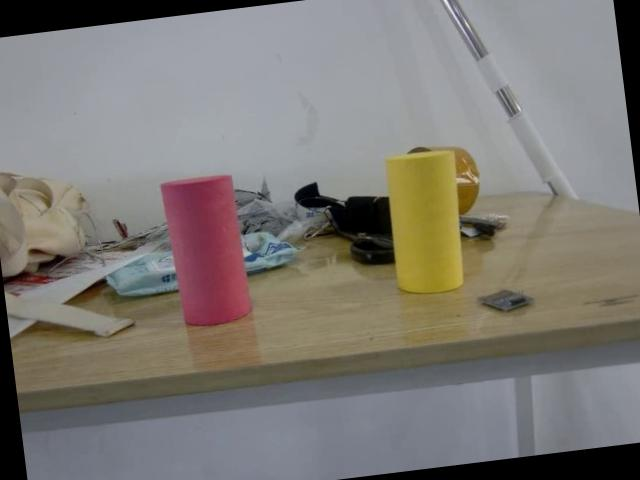red_cylinder: (160, 171, 253, 330)
yellow_cylinder: (381, 147, 468, 298)
